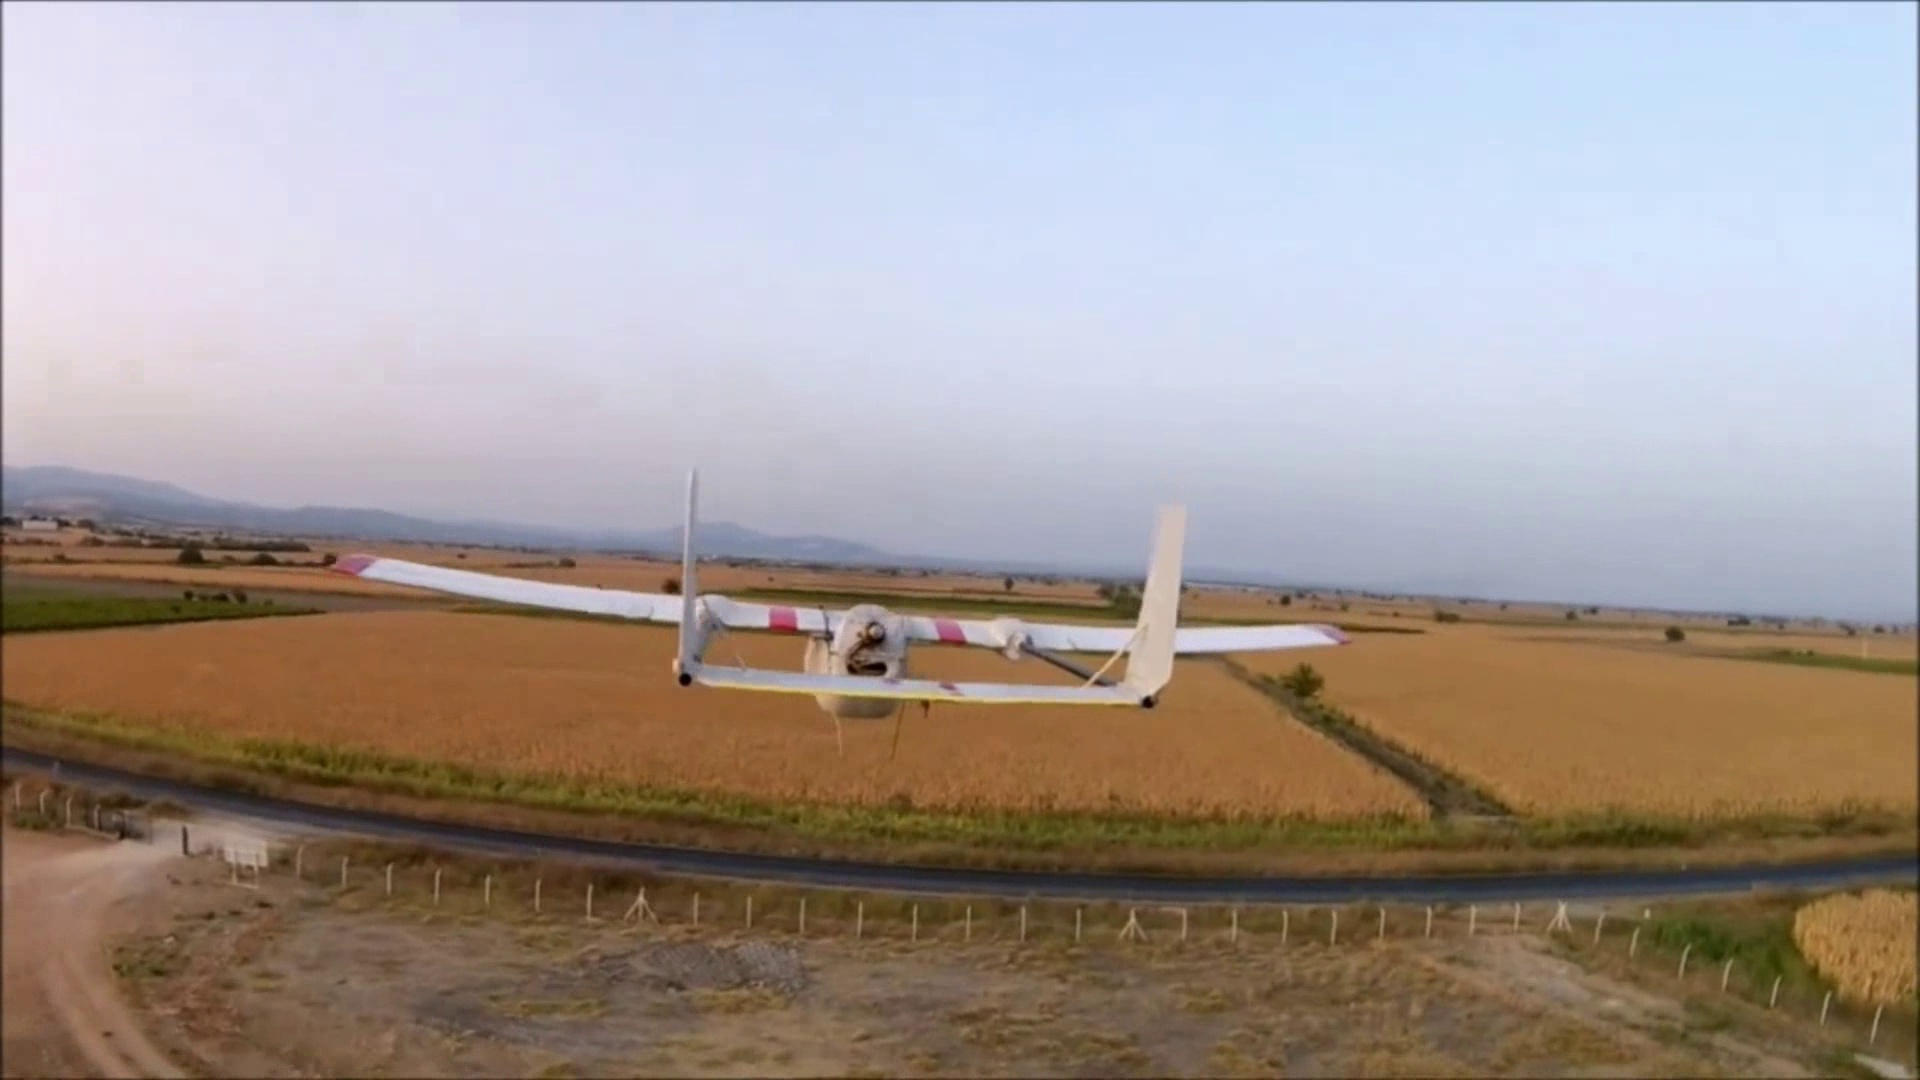airplane: (328, 468, 1346, 712)
